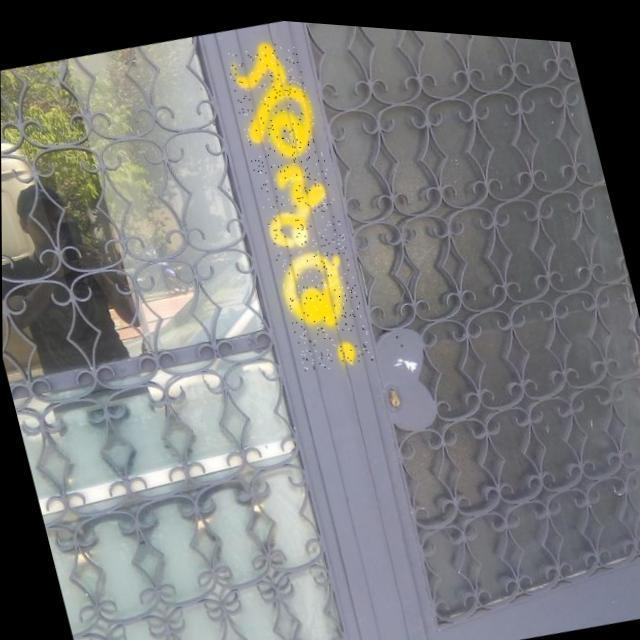-: (223, 30, 374, 372)
